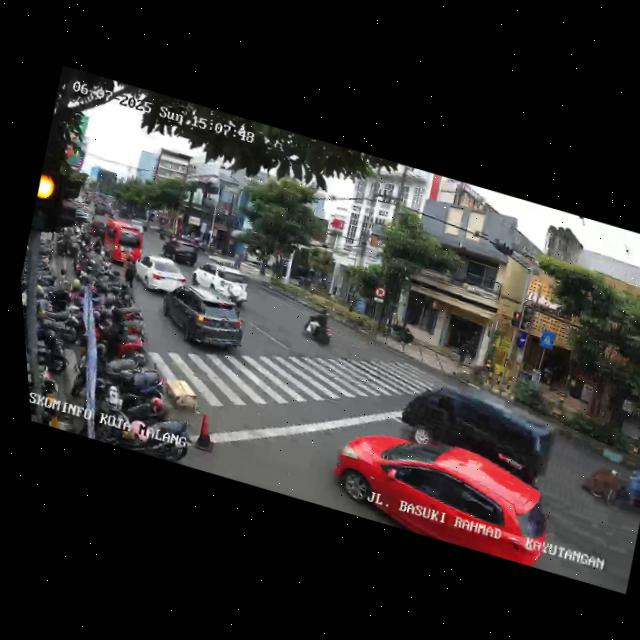bus: (388, 363, 568, 490)
car: (322, 413, 567, 570), (151, 278, 254, 361), (185, 248, 258, 310), (126, 249, 191, 302), (93, 214, 148, 270), (157, 233, 203, 270)
motorcycle: (574, 445, 640, 520), (297, 302, 342, 350)
